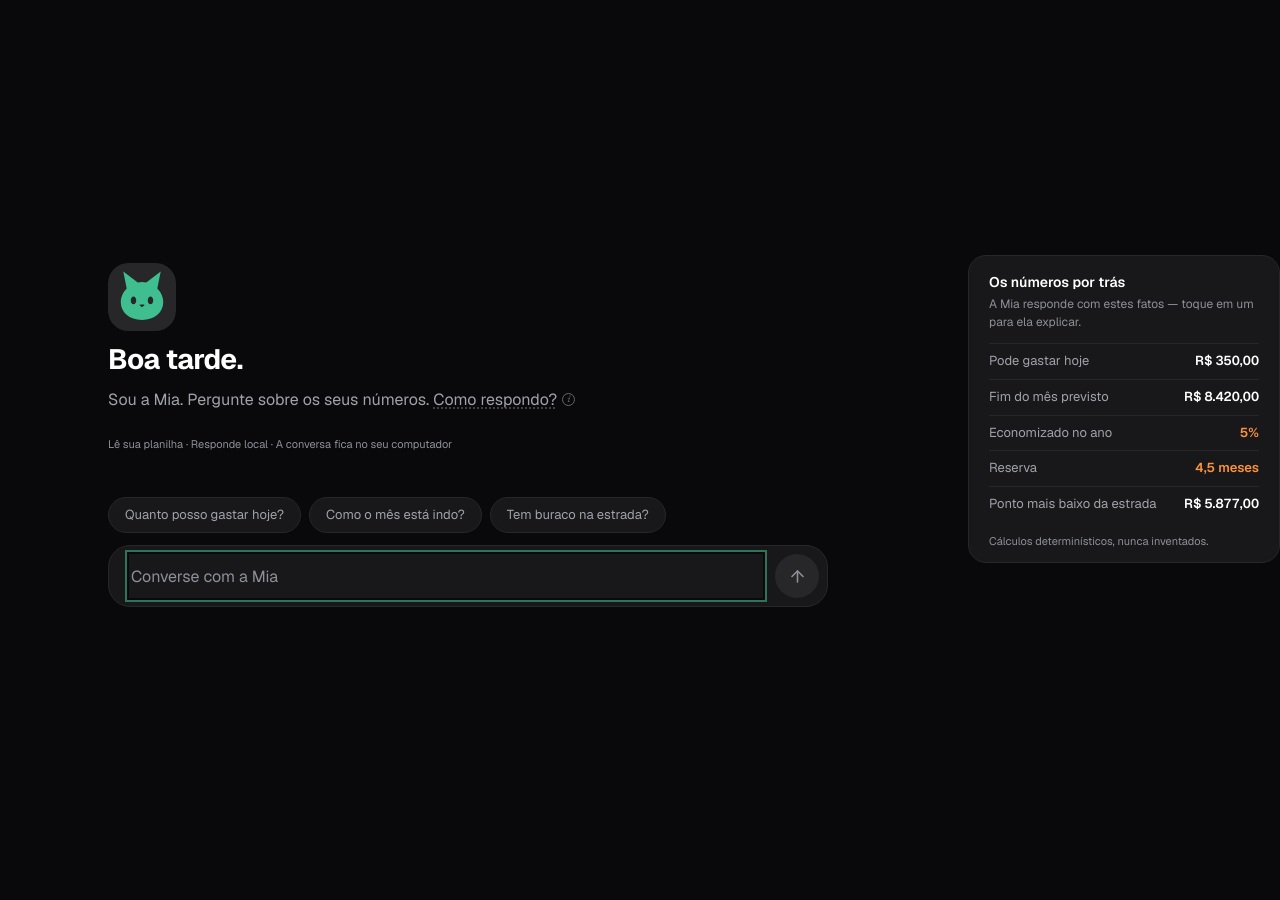
Test: CopilotScreen (Mia) › pergunta fora do repertório recebe recusa honesta, não uma resposta inventada
Type "me conta uma piada" into the field named "Mensagem para a Mia" at x=446, y=576, box [129, 554, 763, 598]
Then press Enter
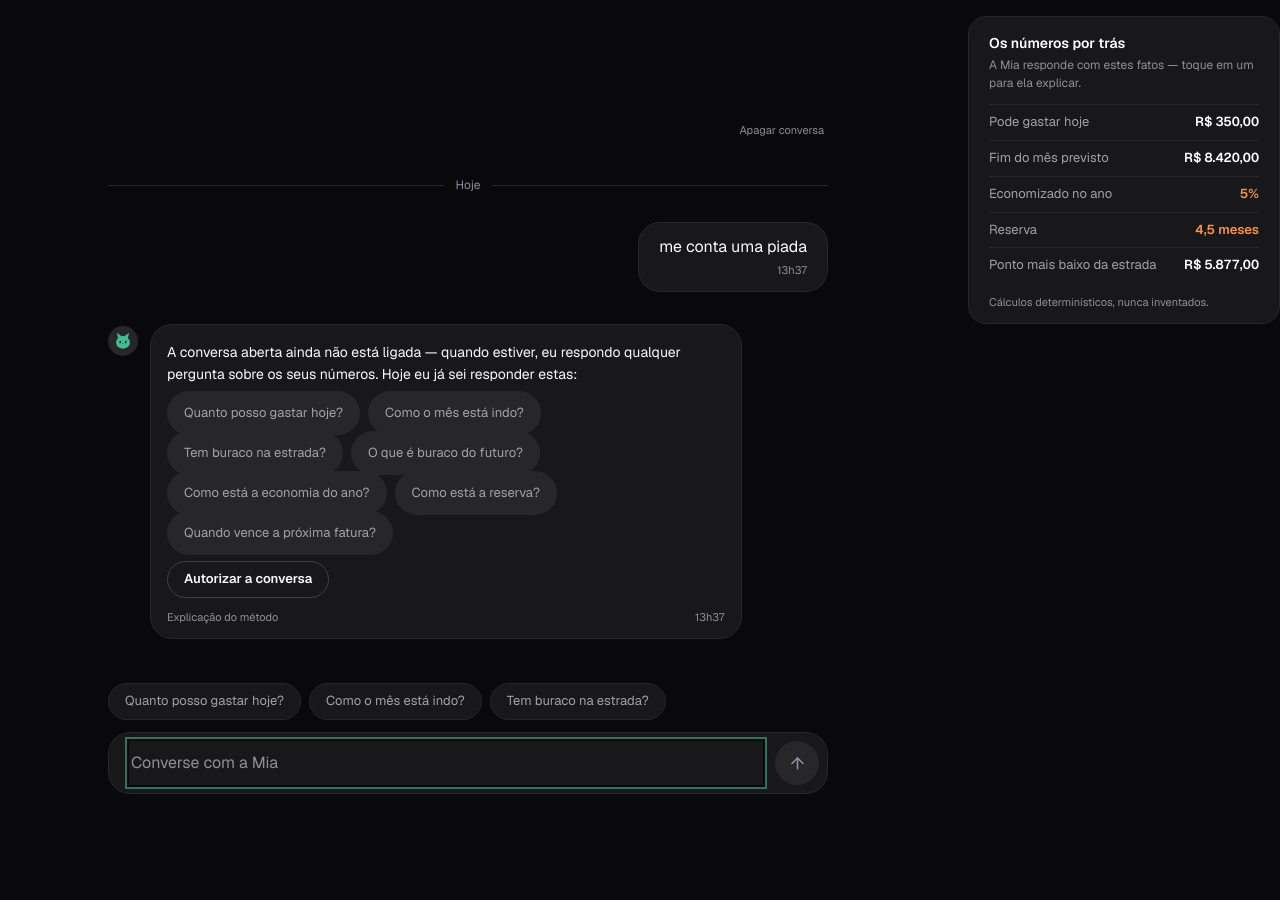
Expected: the text "ainda não está ligada" is shown, [167, 343, 684, 383]
